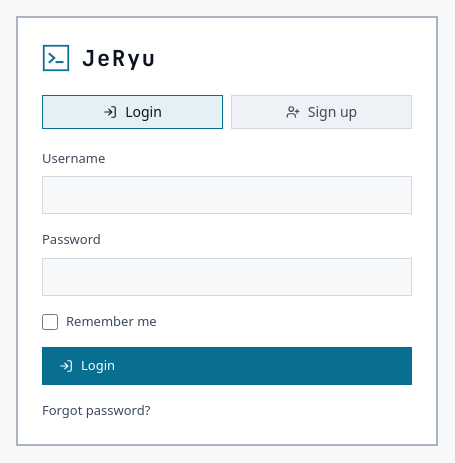
Test case: AuthPage › offers "Forgot password?" on Login only
Click the tab "Sign up".
click(322, 112)  # box x1=231 y1=95 x2=412 y2=129
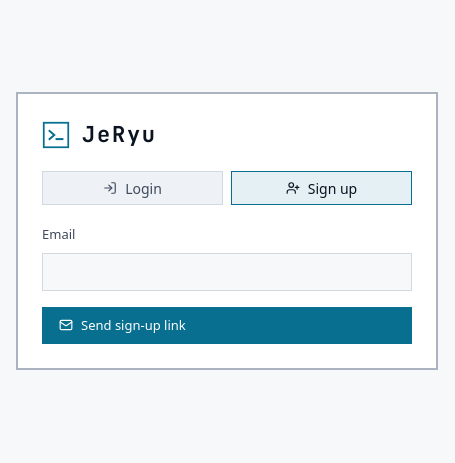
Now the link "Forgot password?" is gone
